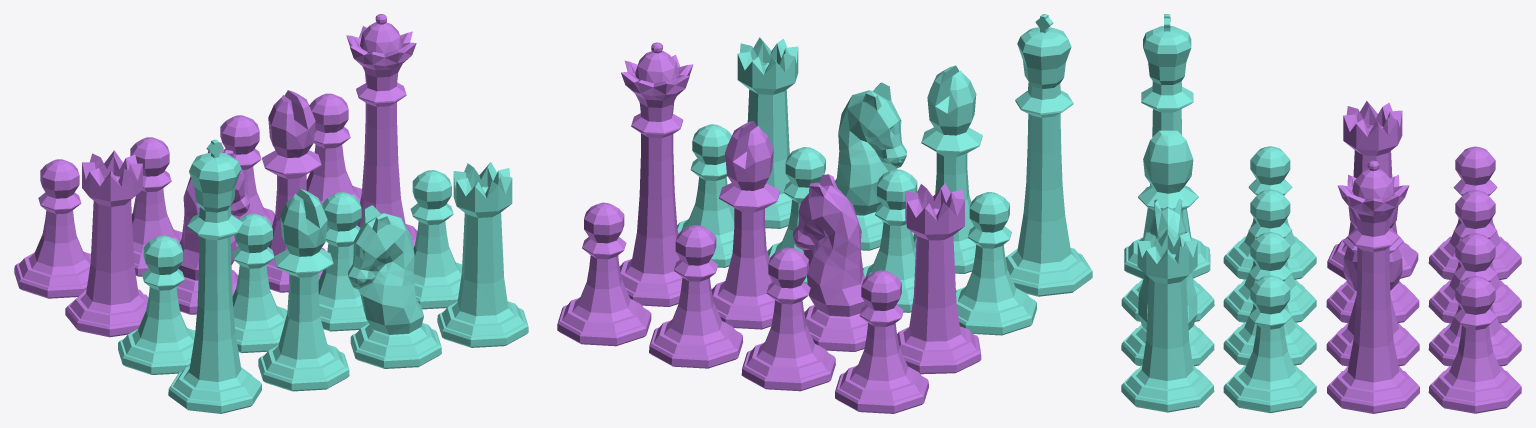
Rendered from chess.glb.
3 views of the same model, side by side, from view 1: azimuth 30°, elevation 25°; view 2: azimuth 150°, elevation 25°; view 3: azimuth 270°, elevation 25° (orthographic). The views are drawn at different scales.
Parts seen in each view (by area): view 1: node_id118, node_id122, node_id112, node_id124, node_id120, node_id110, node_id128, node_id132, node_id116, node_id134, node_id138, node_id136 (+4 smaller); view 2: node_id118, node_id110, node_id120, node_id140, node_id116, node_id130, node_id114, node_id128, node_id126, node_id122, node_id132, node_id124 (+4 smaller); view 3: node_id110, node_id112, node_id130, node_id138, node_id118, node_id124, node_id120, node_id136, node_id114, node_id132, node_id126, node_id128 (+4 smaller).
Boxes of the visible parts, <box> form: node_id118: <box>168,139,261,413</box>; node_id122: <box>348,205,441,368</box>; node_id112: <box>437,162,528,347</box>; node_id124: <box>258,189,349,391</box>; node_id120: <box>65,150,148,337</box>; node_id110: <box>346,14,417,247</box>; node_id128: <box>14,159,90,298</box>; node_id132: <box>118,235,195,374</box>; node_id116: <box>262,90,325,292</box>; node_id134: <box>232,213,287,352</box>; node_id138: <box>410,170,462,309</box>; node_id136: <box>318,192,368,331</box>; node_id118: <box>1005,14,1092,296</box>; node_id110: <box>619,42,693,306</box>; node_id120: <box>897,183,981,374</box>; node_id140: <box>793,174,867,351</box>; node_id116: <box>711,121,780,329</box>; node_id130: <box>557,202,651,346</box>; node_id114: <box>649,225,742,368</box>; node_id128: <box>835,270,928,413</box>; node_id126: <box>741,247,835,391</box>; node_id122: <box>835,82,906,250</box>; node_id132: <box>956,192,1036,335</box>; node_id124: <box>912,65,982,273</box>; node_id110: <box>1327,160,1419,413</box>; node_id112: <box>1121,228,1214,412</box>; node_id130: <box>1428,276,1521,413</box>; node_id138: <box>1223,275,1316,413</box>; node_id118: <box>1124,14,1210,278</box>; node_id124: <box>1121,130,1214,321</box>; node_id120: <box>1327,101,1418,279</box>; node_id136: <box>1223,232,1316,365</box>; node_id114: <box>1428,233,1521,366</box>; node_id132: <box>1223,146,1316,279</box>; node_id126: <box>1428,190,1521,323</box>; node_id128: <box>1428,146,1521,279</box>.
Bounding box in the file's own units: 0.512 × 0.3539 × 0.5124.
16 materials, 16 textured.
